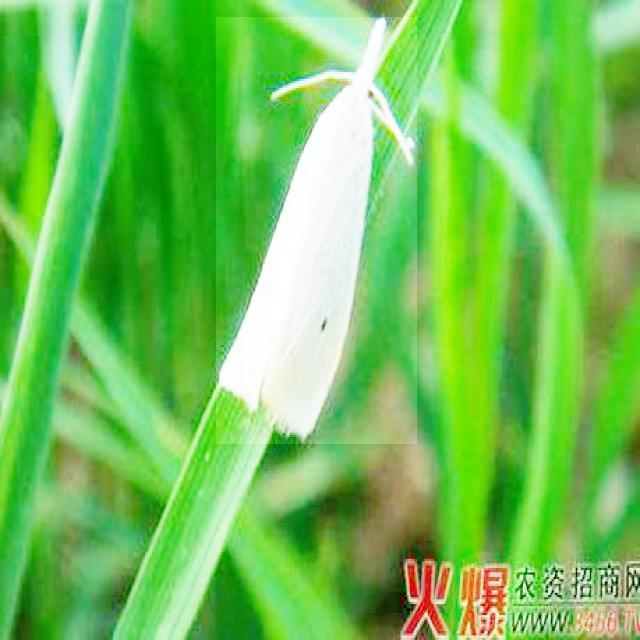stem-borer: (216, 17, 417, 444)
